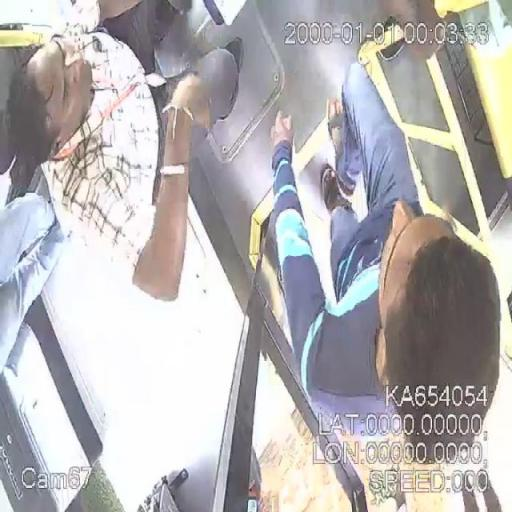persona: (268, 60, 503, 510), (8, 0, 239, 310)
